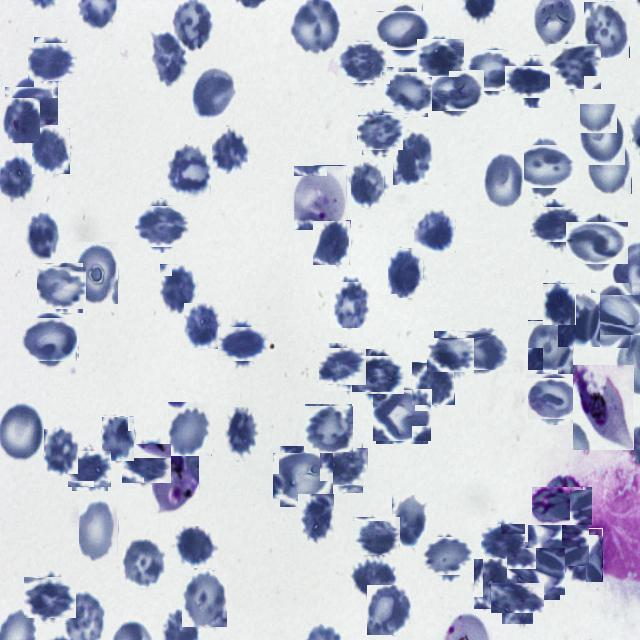difficult: (573, 364, 635, 450)
red blood cell: (374, 388, 430, 443), (518, 138, 572, 194), (276, 450, 330, 503), (580, 103, 626, 165), (510, 544, 562, 598), (571, 218, 623, 270), (584, 290, 636, 342), (532, 520, 584, 571), (584, 1, 630, 58), (76, 242, 118, 304), (182, 570, 227, 627), (78, 498, 118, 562), (588, 136, 632, 194), (26, 314, 76, 365), (528, 320, 574, 374), (167, 143, 212, 198), (538, 482, 588, 531), (191, 66, 236, 120), (168, 401, 212, 456), (484, 151, 524, 210), (468, 46, 516, 94), (432, 67, 480, 115), (138, 202, 186, 250), (304, 404, 352, 452), (551, 42, 599, 90), (558, 293, 600, 347), (460, 327, 508, 374), (122, 538, 167, 588), (150, 29, 189, 86), (380, 7, 427, 54), (367, 585, 411, 635), (424, 534, 471, 580), (26, 574, 73, 620), (393, 131, 433, 185), (563, 528, 603, 582), (530, 376, 576, 422), (340, 40, 386, 86), (384, 69, 430, 115), (39, 265, 85, 311), (9, 83, 55, 129), (355, 353, 401, 398), (321, 445, 366, 490), (350, 557, 395, 602), (173, 0, 213, 50), (534, 202, 578, 247), (124, 442, 169, 486), (330, 281, 372, 328), (224, 406, 260, 460), (474, 558, 512, 609), (31, 40, 75, 84), (414, 207, 456, 253), (392, 495, 427, 548), (160, 264, 197, 314), (412, 362, 455, 405), (420, 36, 462, 80), (175, 526, 218, 568), (24, 210, 60, 259), (482, 522, 524, 564), (222, 323, 264, 365), (322, 346, 364, 388), (510, 61, 552, 103), (356, 515, 398, 557), (496, 576, 538, 618), (388, 248, 423, 298), (32, 128, 70, 174), (184, 303, 222, 349), (298, 494, 334, 542), (431, 334, 472, 376), (312, 220, 350, 265), (2, 98, 40, 143), (212, 127, 248, 174), (360, 112, 400, 153), (70, 449, 110, 489), (351, 161, 385, 208), (44, 429, 78, 474), (102, 416, 135, 461), (543, 283, 576, 325)
ring: (294, 165, 347, 230)
trophozoite: (152, 451, 199, 514)
